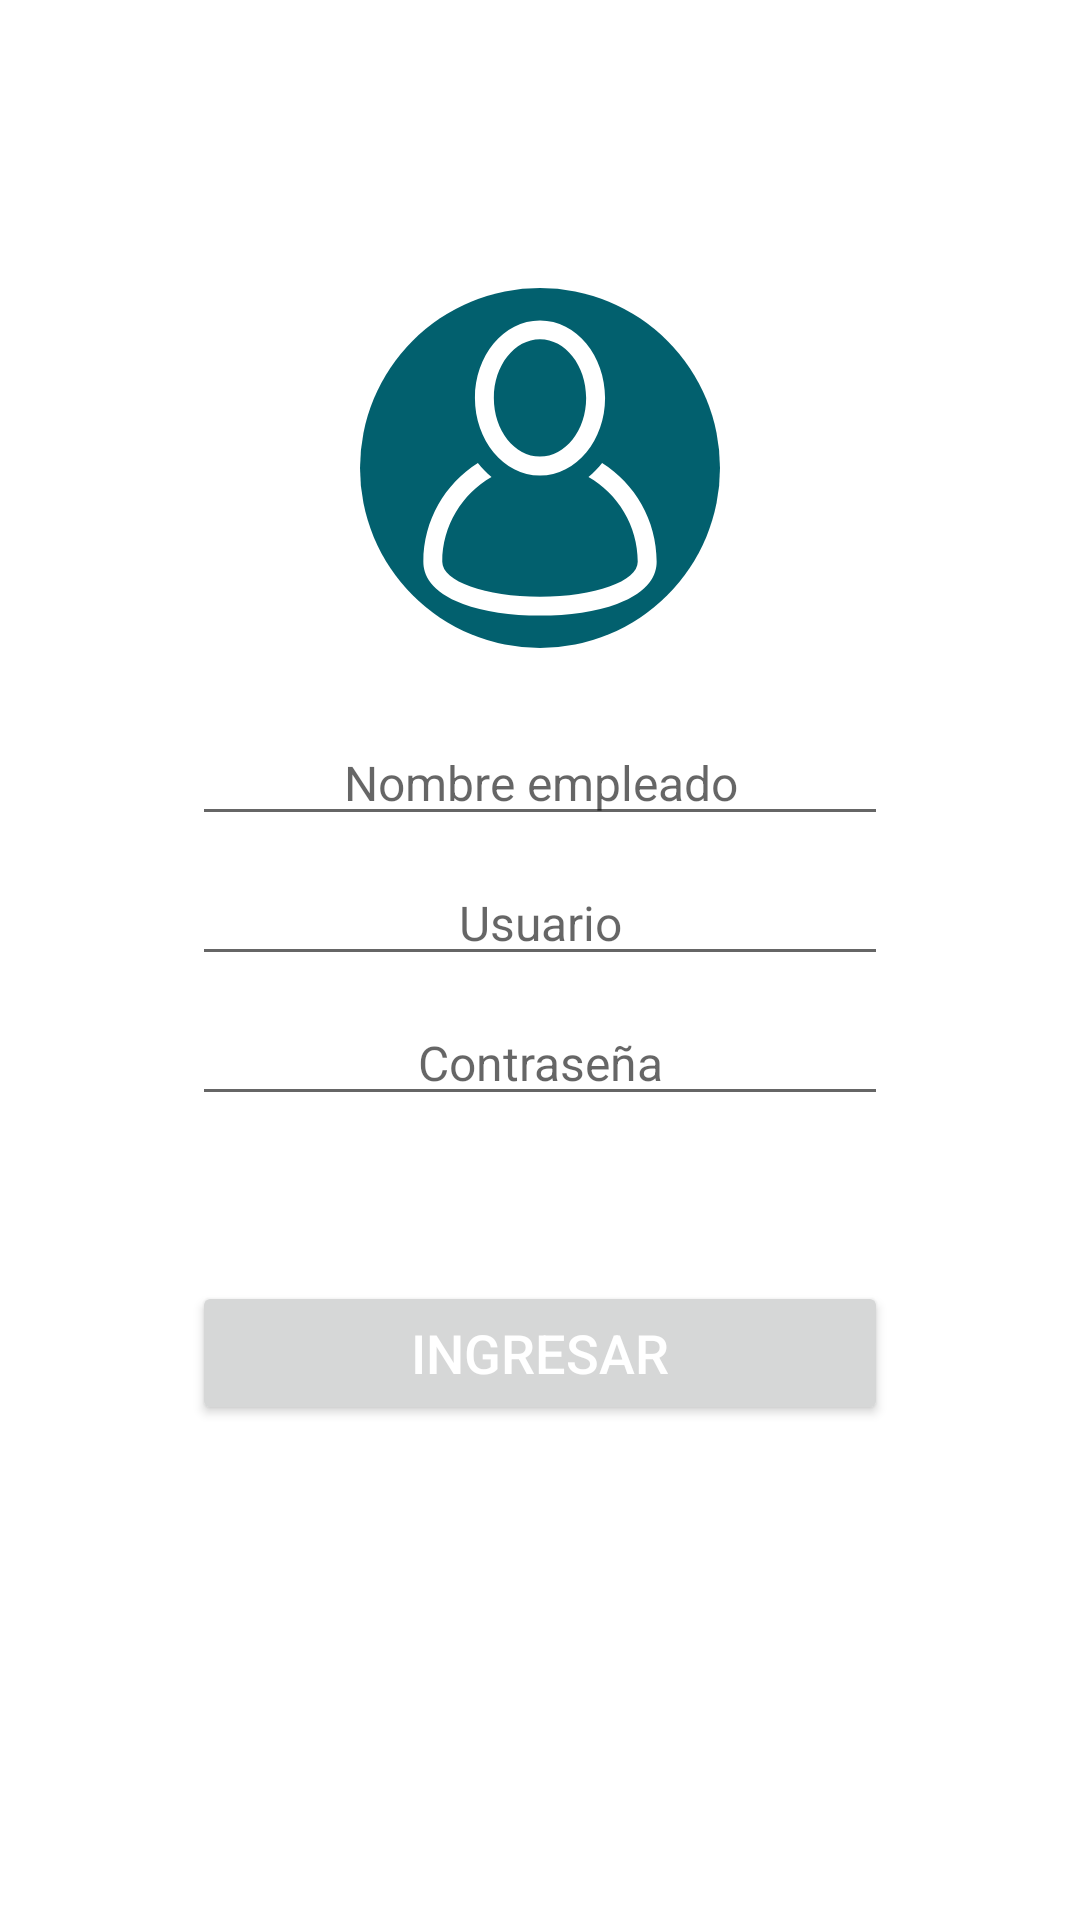

Icon bounding boxes for this 1080w x 1920h phone screenshot, format (x1, y1, x2, y2):
user: (360, 288, 720, 648)
